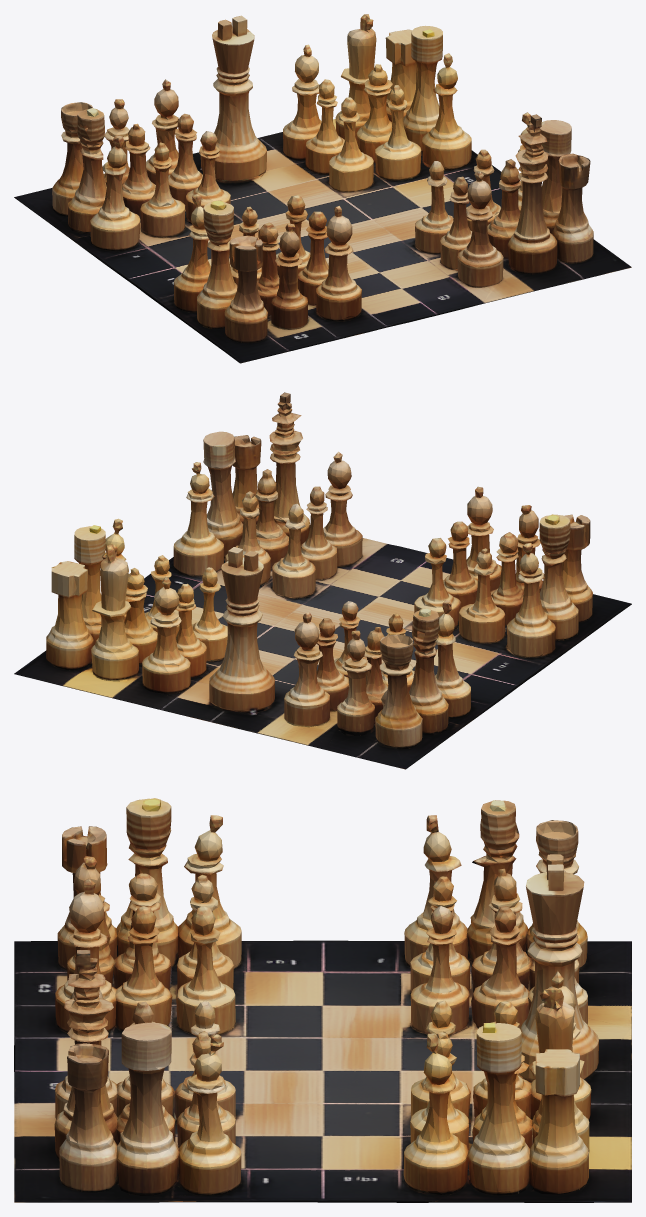
File: bamboo-chess-set-futuristic.jpeg.glb
3 views of the same model, one above another, from view 1: azimuth 30°, elevation 25°; view 2: azimuth 150°, elevation 25°; view 3: azimuth 270°, elevation 25° (orthographic). The views are drawn at different scales.
Parts seen in each view (by area): view 1: world; view 2: world; view 3: world.
Boxes of the visible parts, x1,y1,x2,y2 form: world: [14, 14, 631, 363]; world: [14, 392, 631, 769]; world: [14, 798, 631, 1202].
Size of the model in its own units: 1 by 0.3704 by 1.
1 material, 1 textured.
